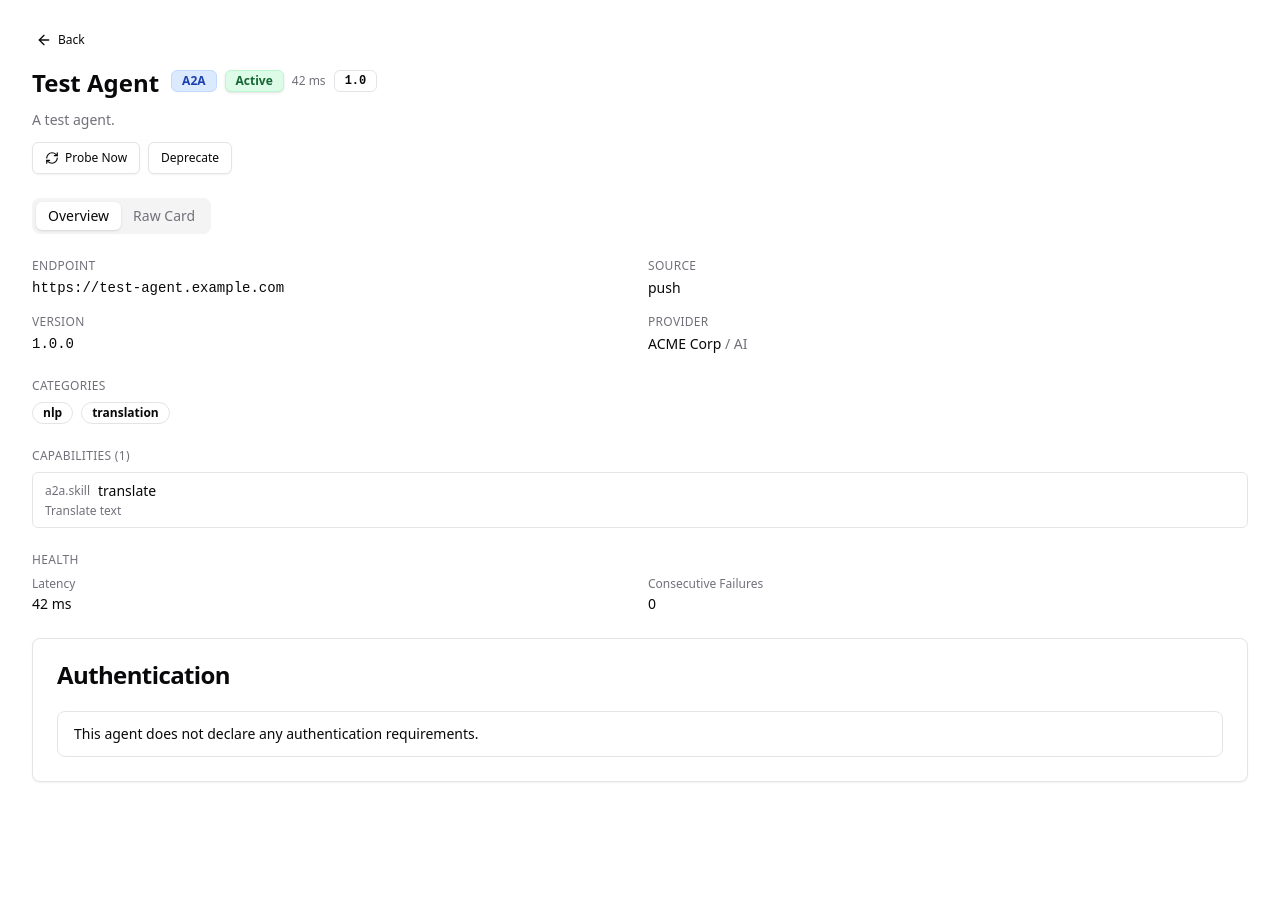
CatalogDetailPage › shows inline action error when patchLifecycle fails
The image size is (1280, 900).
Step 1. Click the button "Deprecate" → (190, 158), box [148,142,232,174]
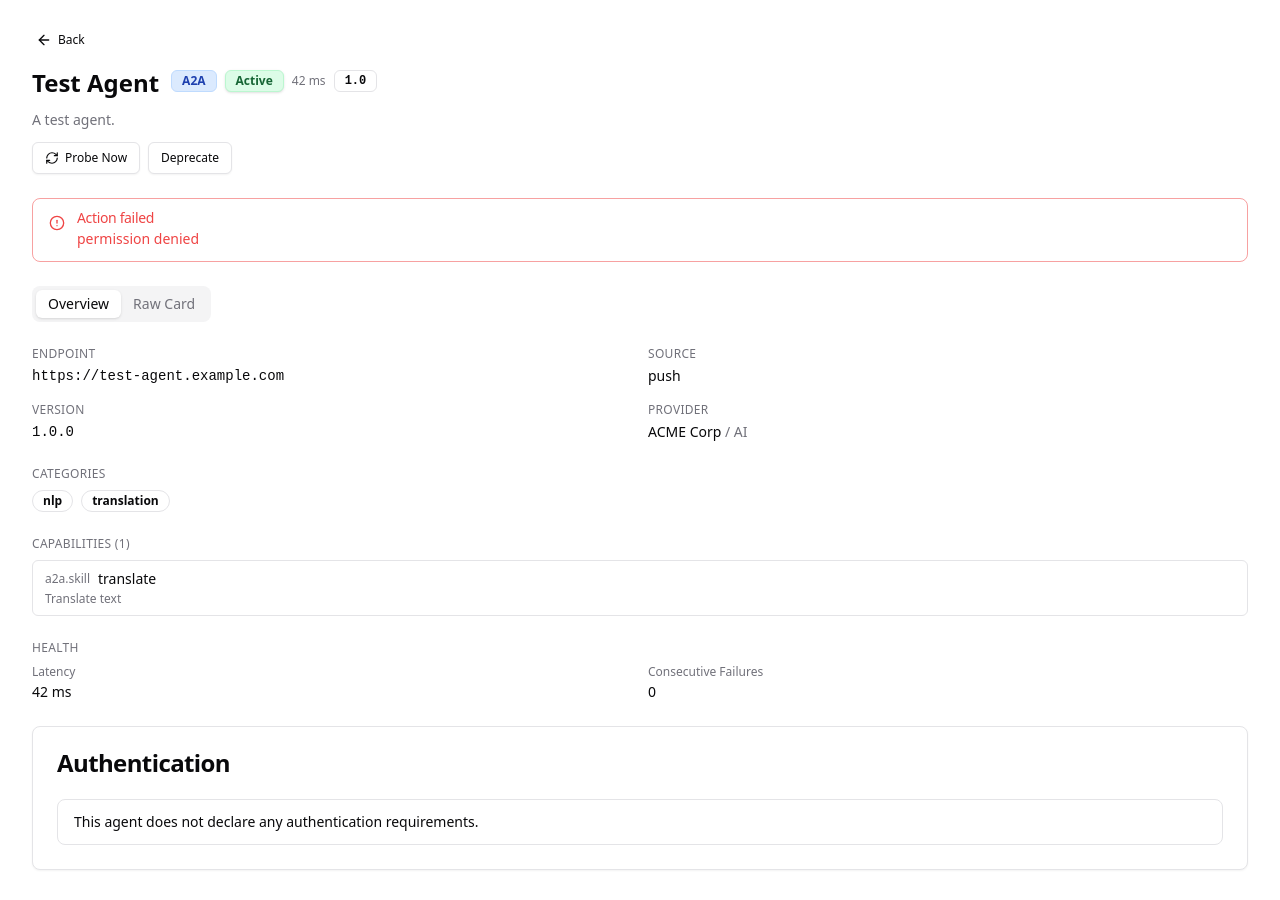
expect the text "permission denied" is shown: met, box [77,229,199,248]
